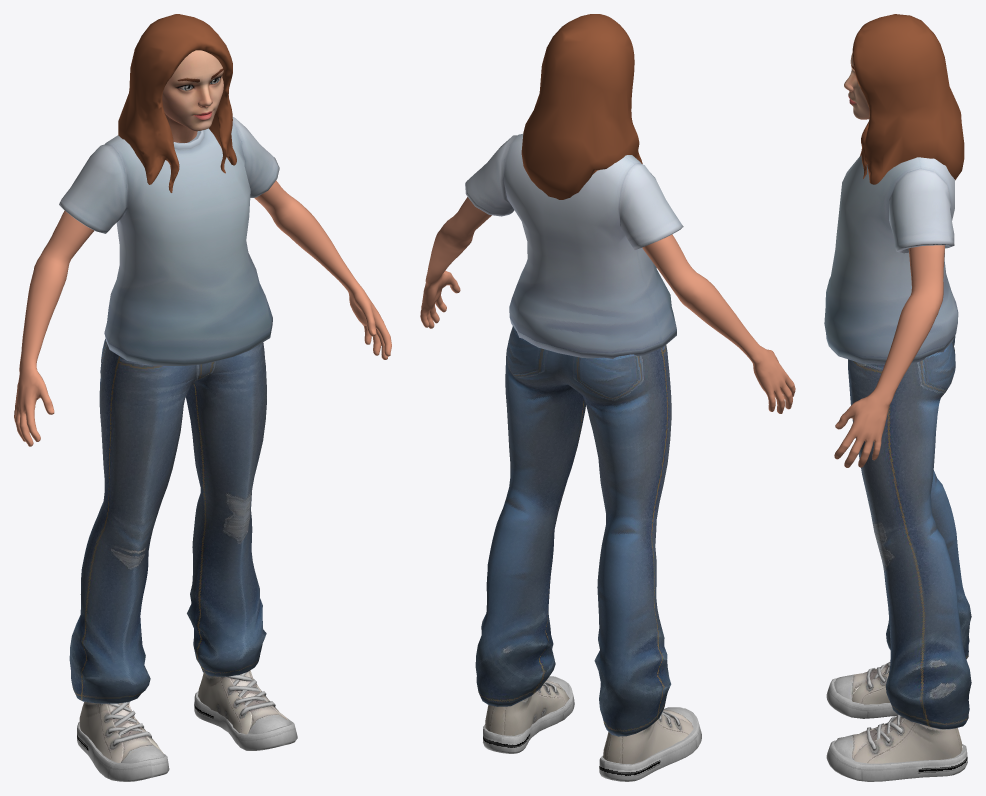
Rendered from Woman1Mat.glb.
The picture shows the model from 3 angles, left to right: view 1: azimuth 30°, elevation 25°; view 2: azimuth 150°, elevation 25°; view 3: azimuth 270°, elevation 25°; orthographic projection.
Visible parts, largest first — view 1: Wolf3D_Avatar; view 2: Wolf3D_Avatar; view 3: Wolf3D_Avatar.
Part boxes in pixels (<box>): Wolf3D_Avatar: <box>14,14,391,781</box>; Wolf3D_Avatar: <box>420,14,795,781</box>; Wolf3D_Avatar: <box>824,14,971,781</box>.
Bounding box in the file's own units: 0.9283 × 1.76 × 0.326.
Materials: 1 (1 with a texture image).
